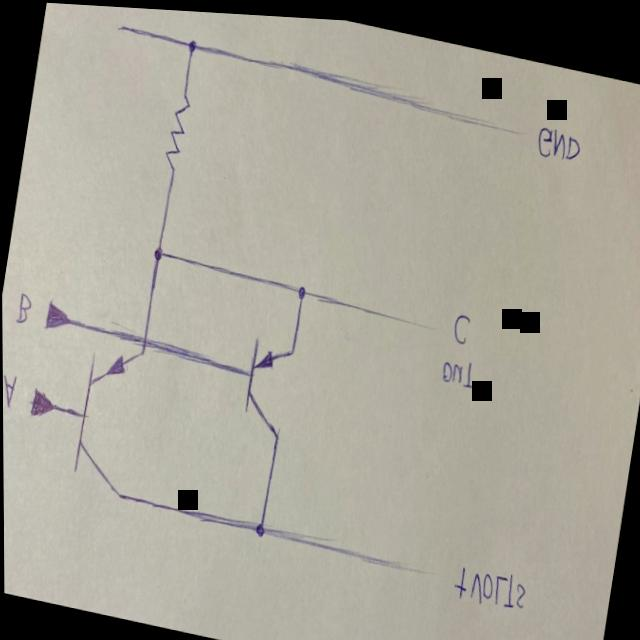crossover: (133, 324, 161, 354)
junction: (287, 270, 318, 307), (181, 29, 207, 64), (247, 512, 273, 545), (147, 238, 173, 269)
resistor: (156, 81, 202, 184)
terminal: (381, 544, 441, 582), (23, 384, 63, 429), (39, 299, 78, 340), (399, 308, 443, 340), (489, 111, 529, 142), (107, 13, 140, 49)
text: (466, 558, 529, 613), (531, 114, 585, 163), (436, 348, 478, 390), (450, 304, 475, 345), (11, 288, 33, 330), (449, 557, 469, 598), (2, 370, 19, 412)
transistor: (60, 339, 148, 505), (231, 331, 300, 444)
